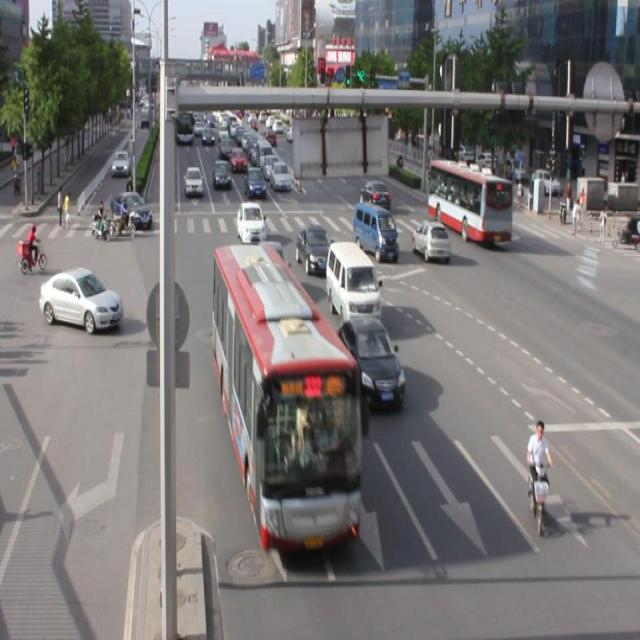car: (336, 314, 405, 410), (296, 224, 334, 276), (412, 220, 450, 262), (236, 200, 266, 243)
truck: (324, 241, 380, 324), (352, 200, 398, 260)
van: (214, 244, 359, 552), (427, 160, 511, 242)
